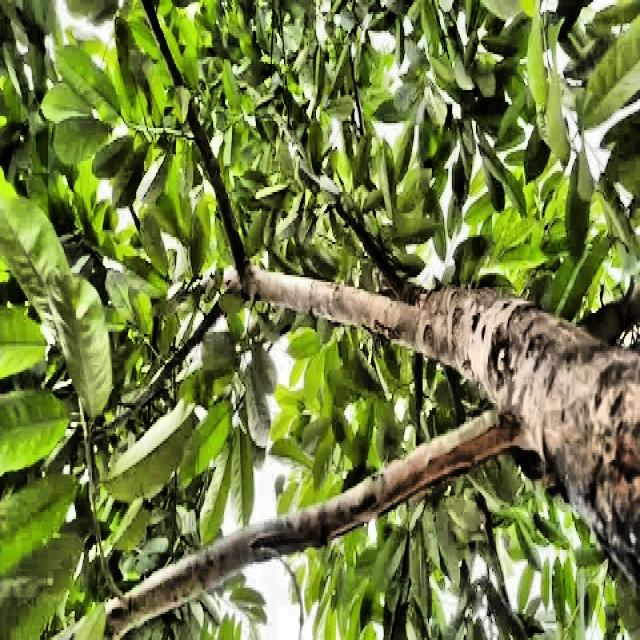arvore: (148, 230, 640, 628)
